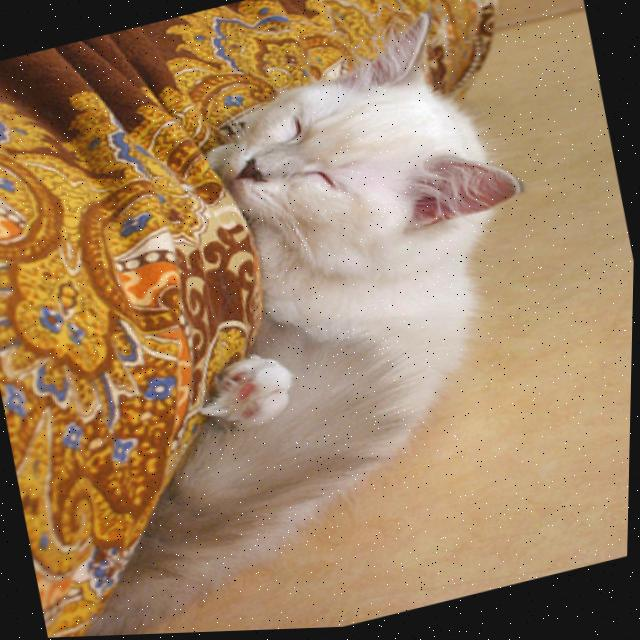Ragdoll: (0, 0, 614, 640)
